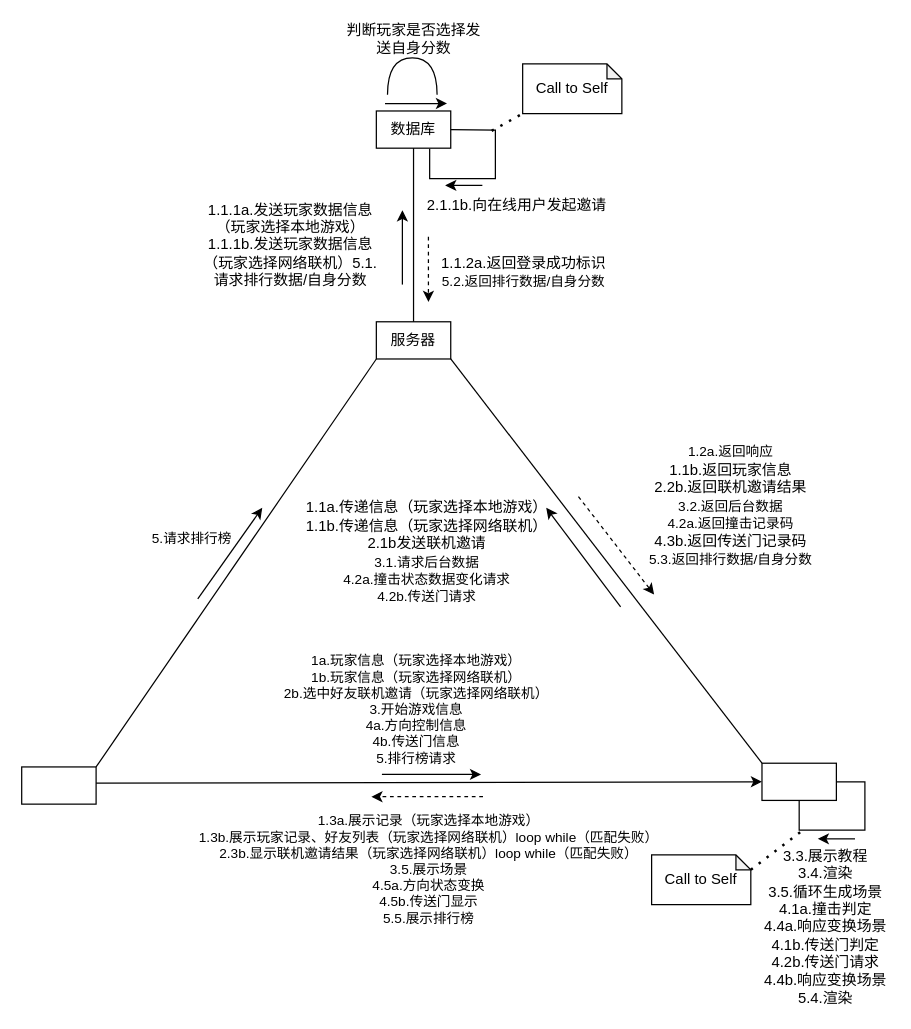
This 911x1029 diagram has some shape labels left out. The shapes that lost their labels are listed below. From the top down, each one's box as (x1, y1, x2, y2) in pixels, then its label:
(20, 766, 96, 804): 玩家
(761, 762, 836, 800): 界面
